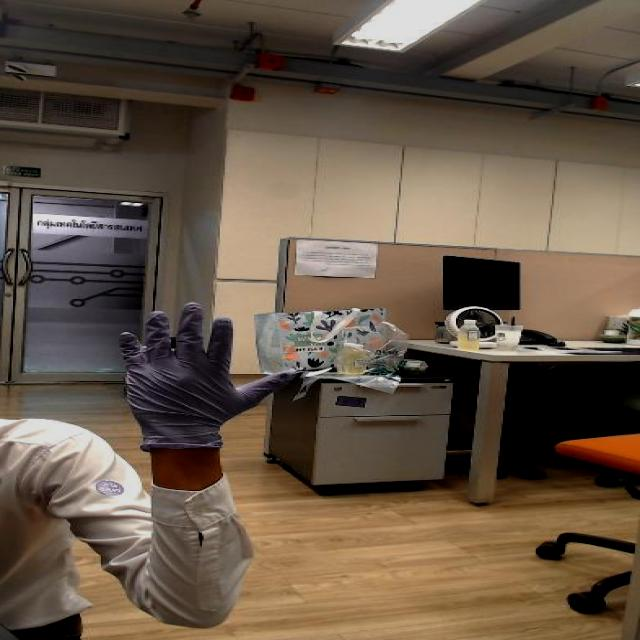glove: (100, 288, 330, 439)
